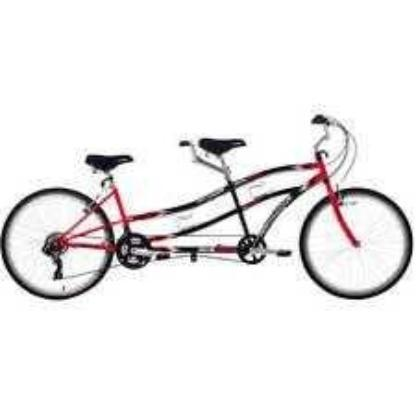Bicycle: (1, 103, 416, 318)
